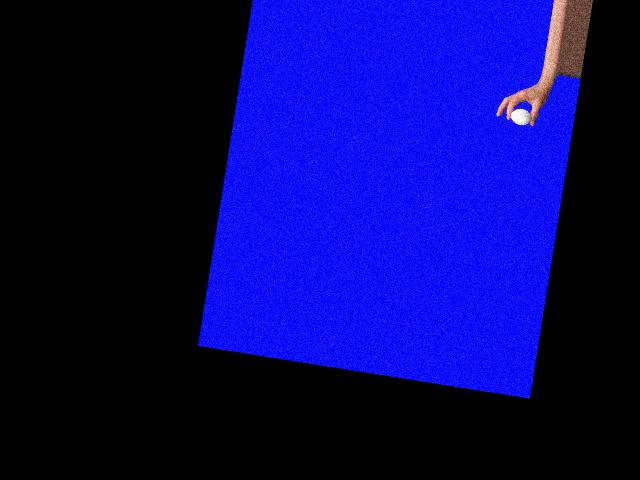egg: (509, 107, 532, 126)
